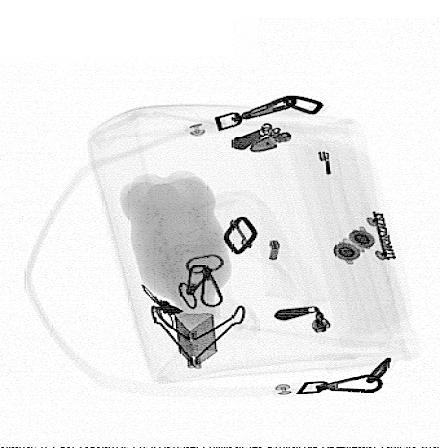Scissors: (141, 281, 186, 328)
